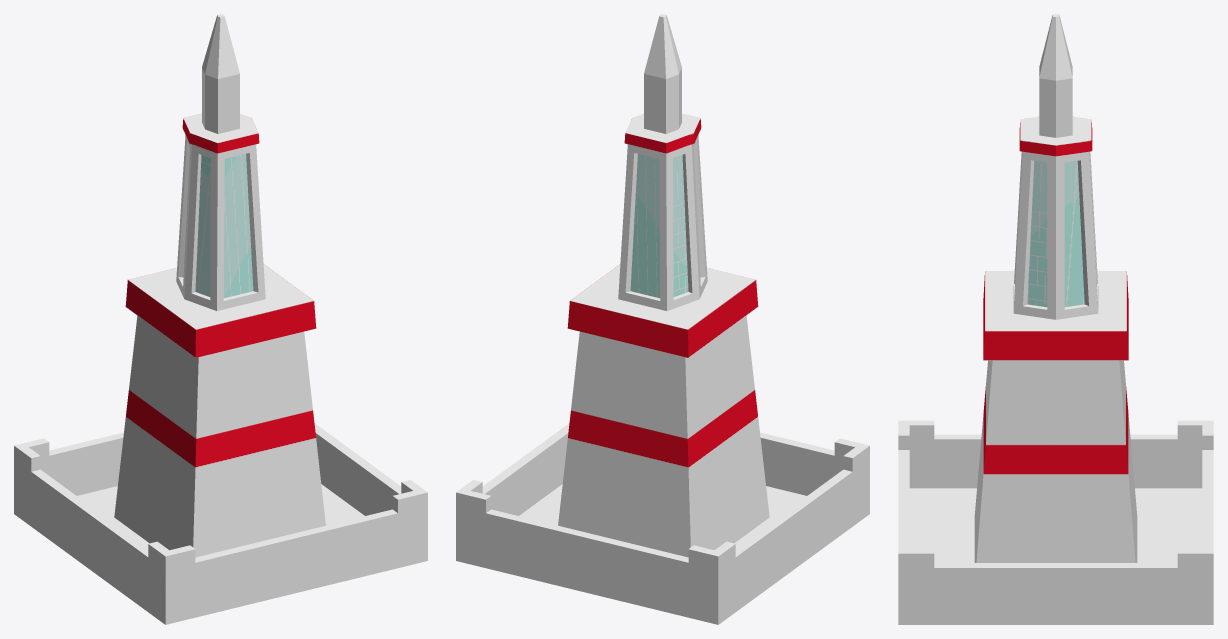
The model's file is Lighthouse (Pharos of Alexandria)_noGround.fbx.
3 renders of one model, left to right at view 1: azimuth 30°, elevation 25°; view 2: azimuth 150°, elevation 25°; view 3: azimuth 270°, elevation 25°, orthographic. The views are drawn at different scales.
Parts seen in each view (by area): view 1: Cube.015; view 2: Cube.015; view 3: Cube.015.
Boxes of the visible parts, x1=… form: Cube.015: x1=14, y1=14, x2=427, y2=624; Cube.015: x1=456, y1=14, x2=869, y2=624; Cube.015: x1=898, y1=14, x2=1213, y2=624.
Size of the model in its own units: 100 by 190 by 100.
